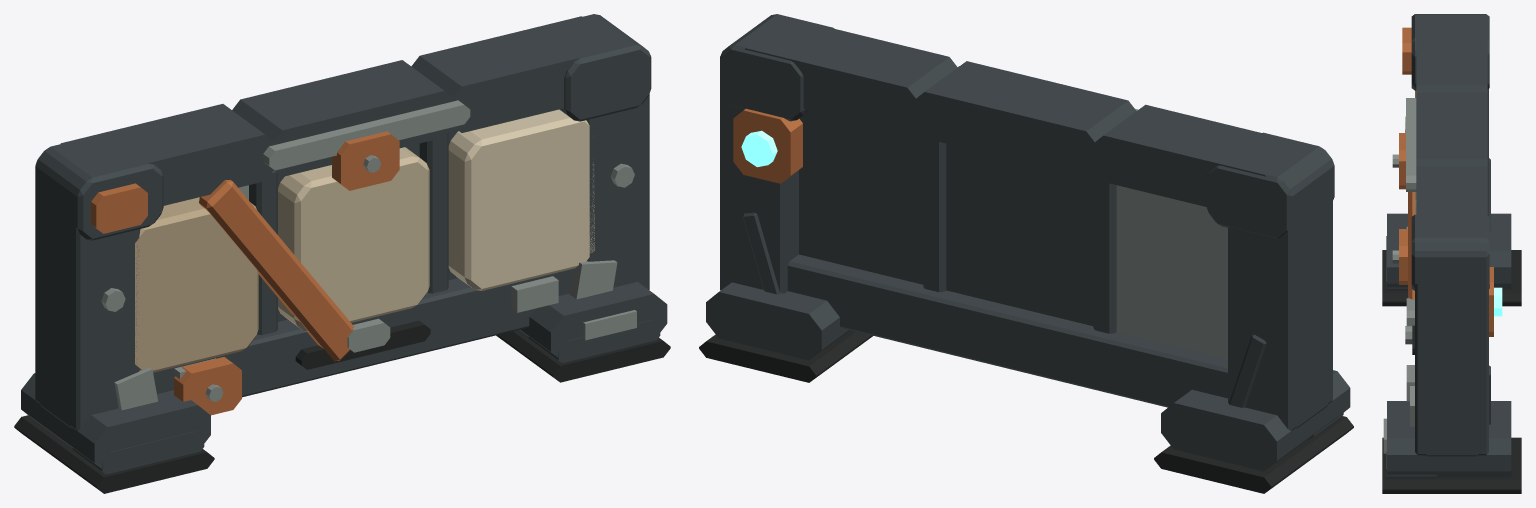
Rendered from asset.glb.
3 views of the same model, side by side, from view 1: azimuth 30°, elevation 25°; view 2: azimuth 150°, elevation 25°; view 3: azimuth 270°, elevation 25° (orthographic). The views are drawn at different scales.
Parts seen in each view (by area): view 1: DEF_BarricadeSmall_PanelR, DEF_BarricadeSmall_PanelC, DEF_BarricadeSmall_PostL, DEF_BarricadeSmall_PanelL, DEF_BarricadeSmall_RailBottom, DEF_BarricadeSmall_RailTopR, DEF_BarricadeSmall_RailTopL, DEF_BarricadeSmall_RailTop, DEF_BarricadeSmall_PostR, DEF_BarricadeSmall_RepairBrace, DEF_BarricadeSmall_FootUpperL, DEF_BarricadeSmall_CornerCapL (+18 smaller); view 2: DEF_BarricadeSmall_RailBottom, DEF_BarricadeSmall_PanelBackingC, DEF_BarricadeSmall_PostL, DEF_BarricadeSmall_PanelBackingR, DEF_BarricadeSmall_PanelBackingL, DEF_BarricadeSmall_RailTop, DEF_BarricadeSmall_RailTopR, DEF_BarricadeSmall_RailTopL, DEF_BarricadeSmall_FootUpperL, DEF_BarricadeSmall_PostR, DEF_BarricadeSmall_CornerCapL, DEF_BarricadeSmall_FootUpperR (+9 smaller); view 3: DEF_BarricadeSmall_PostR, DEF_BarricadeSmall_RailTop, DEF_BarricadeSmall_RailTopL, DEF_BarricadeSmall_CornerCapR, DEF_BarricadeSmall_FootUpperR, DEF_BarricadeSmall_RailTopR, DEF_BarricadeSmall_FootR, DEF_BarricadeSmall_FootUpperL, DEF_BarricadeSmall_CornerCapL, DEF_BarricadeSmall_FootL, DEF_BarricadeSmall_RailBottom, DEF_BarricadeSmall_TopRailInset (+11 smaller).
Boxes of the visible parts, box(x1,y1,x2,y2) form: DEF_BarricadeSmall_PanelR: box(448, 109, 594, 290); DEF_BarricadeSmall_PanelC: box(278, 147, 429, 331); DEF_BarricadeSmall_PostL: box(35, 198, 140, 430); DEF_BarricadeSmall_PanelL: box(135, 197, 258, 372); DEF_BarricadeSmall_RailBottom: box(40, 269, 572, 428); DEF_BarricadeSmall_RailTopR: box(411, 16, 623, 132); DEF_BarricadeSmall_RailTopL: box(60, 104, 273, 205); DEF_BarricadeSmall_RailTop: box(232, 60, 453, 176); DEF_BarricadeSmall_PostR: box(586, 94, 649, 289); DEF_BarricadeSmall_RepairBrace: box(199, 180, 354, 361); DEF_BarricadeSmall_FootUpperL: box(21, 373, 210, 468); DEF_BarricadeSmall_CornerCapL: box(35, 134, 163, 240); DEF_BarricadeSmall_RailBottom: box(787, 254, 1327, 428); DEF_BarricadeSmall_PanelBackingC: box(946, 143, 1093, 325); DEF_BarricadeSmall_PostL: box(1228, 198, 1332, 430); DEF_BarricadeSmall_PanelBackingR: box(799, 110, 923, 284); DEF_BarricadeSmall_PanelBackingL: box(1116, 185, 1227, 358); DEF_BarricadeSmall_RailTop: box(916, 61, 1136, 177); DEF_BarricadeSmall_RailTopR: box(744, 17, 957, 133); DEF_BarricadeSmall_RailTopL: box(1095, 104, 1306, 206); DEF_BarricadeSmall_FootUpperL: box(1161, 370, 1350, 471); DEF_BarricadeSmall_PostR: box(720, 89, 798, 293); DEF_BarricadeSmall_CornerCapL: box(1207, 132, 1334, 238); DEF_BarricadeSmall_FootUpperR: box(706, 282, 849, 360); DEF_BarricadeSmall_PostR: box(1415, 267, 1488, 455); DEF_BarricadeSmall_RailTop: box(1416, 92, 1487, 166); DEF_BarricadeSmall_RailTopL: box(1416, 19, 1487, 92); DEF_BarricadeSmall_CornerCapR: box(1411, 214, 1489, 290); DEF_BarricadeSmall_FootUpperR: box(1387, 401, 1511, 477); DEF_BarricadeSmall_RailTopR: box(1416, 166, 1487, 234); DEF_BarricadeSmall_FootR: box(1382, 437, 1521, 493); DEF_BarricadeSmall_FootUpperL: box(1387, 213, 1511, 289); DEF_BarricadeSmall_CornerCapL: box(1411, 14, 1489, 90); DEF_BarricadeSmall_FootL: box(1382, 250, 1521, 306); DEF_BarricadeSmall_RailBottom: box(1425, 430, 1478, 456); DEF_BarricadeSmall_TopRailInset: box(1406, 98, 1416, 191).
Bounding box in the file's own units: 8 × 4 × 2.
